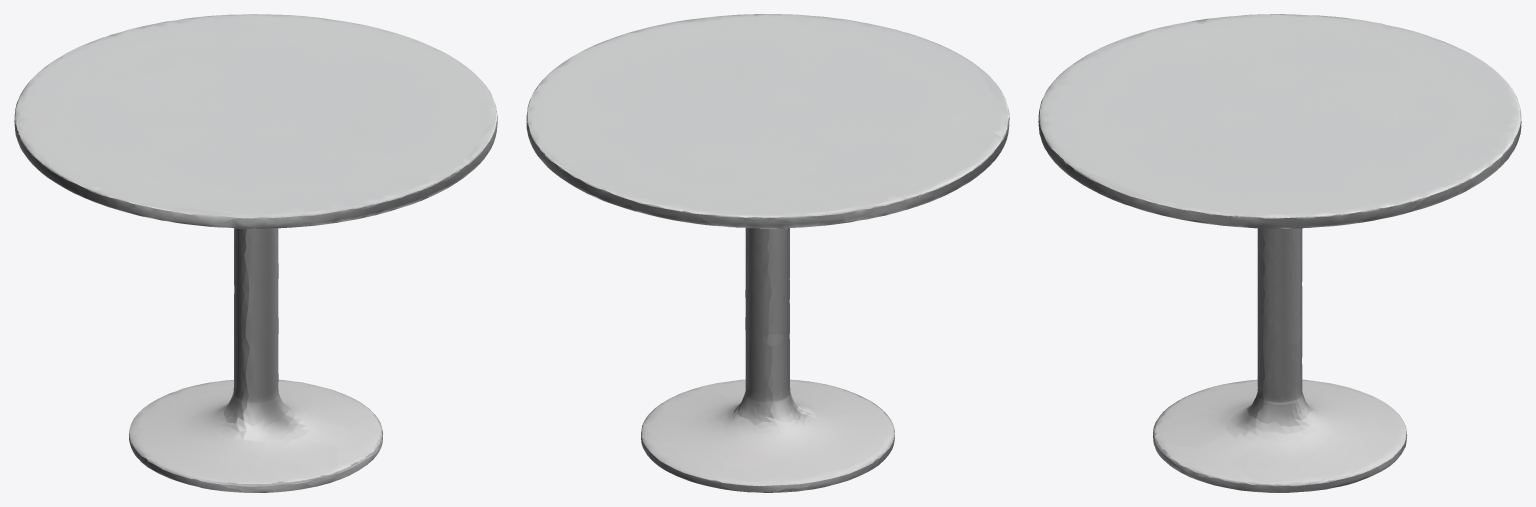
File: white-round-table.glb
The picture shows the model from 3 angles, left to right: view 1: azimuth 30°, elevation 25°; view 2: azimuth 150°, elevation 25°; view 3: azimuth 270°, elevation 25°; orthographic projection.
Parts seen in each view (by area): view 1: geometry_0; view 2: geometry_0; view 3: geometry_0.
Boxes of the visible parts, x1,y1,x2,y2 form: geometry_0: [14, 14, 497, 492]; geometry_0: [526, 14, 1009, 492]; geometry_0: [1038, 14, 1521, 492].
Bounding box in the file's own units: 0.8 × 0.5938 × 0.7998.
Materials: 1 (1 with a texture image).
